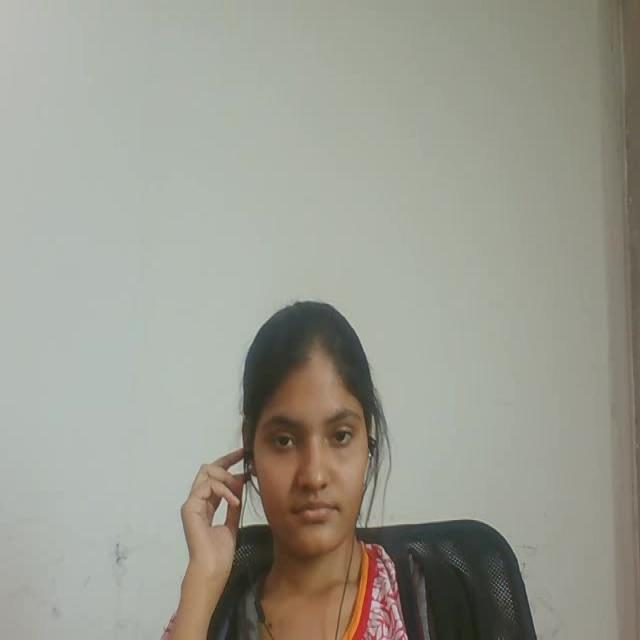Engaged: (200, 274, 428, 571)
